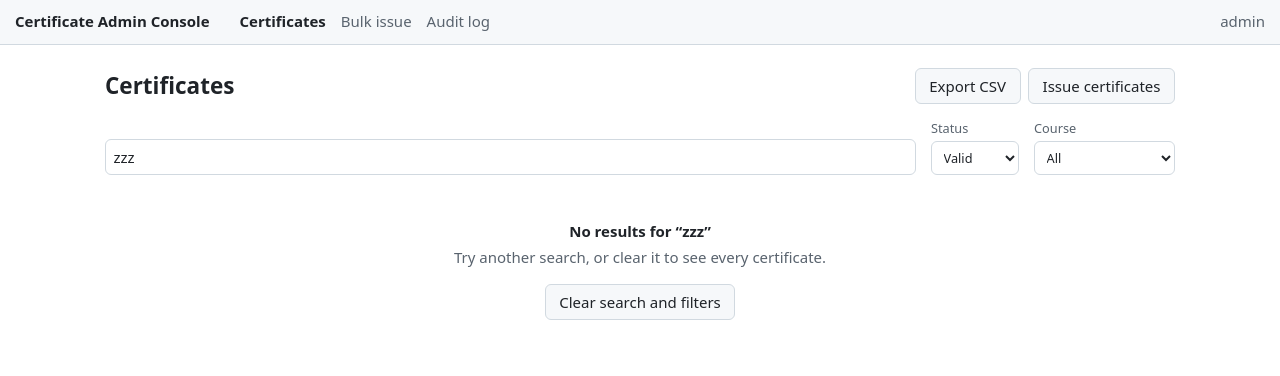
Test: CertificateListPage › search, filters and sort (M2.T6) › says “no results” for a search with no matches, and clears it
Expected: the text "No results for “zzz”" is shown, top-left (569, 221), bottom-right (711, 241)
Click the button "Clear search and filters" at (640, 302), box top-left (545, 284), bottom-right (735, 320)
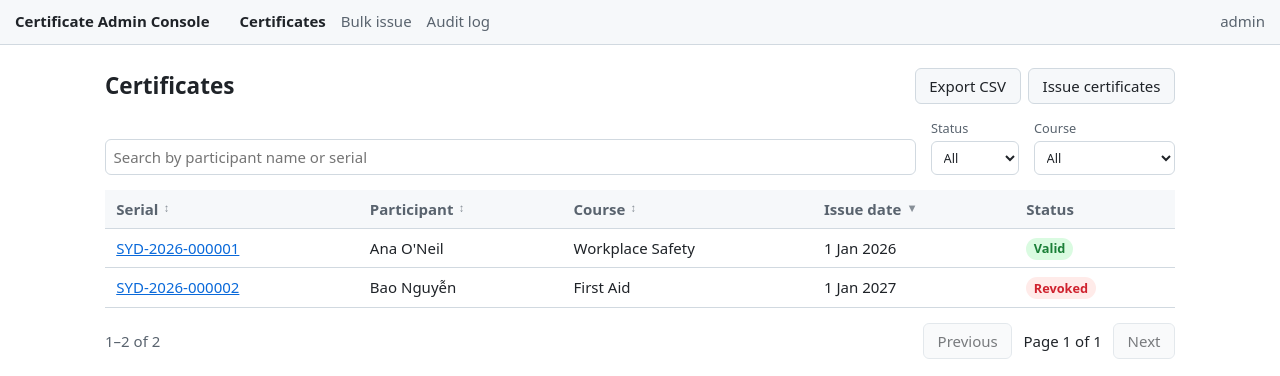
Result: the table is shown at top-left (105, 190), bottom-right (1175, 308)
Result: the search field is empty at top-left (105, 139), bottom-right (916, 175)
